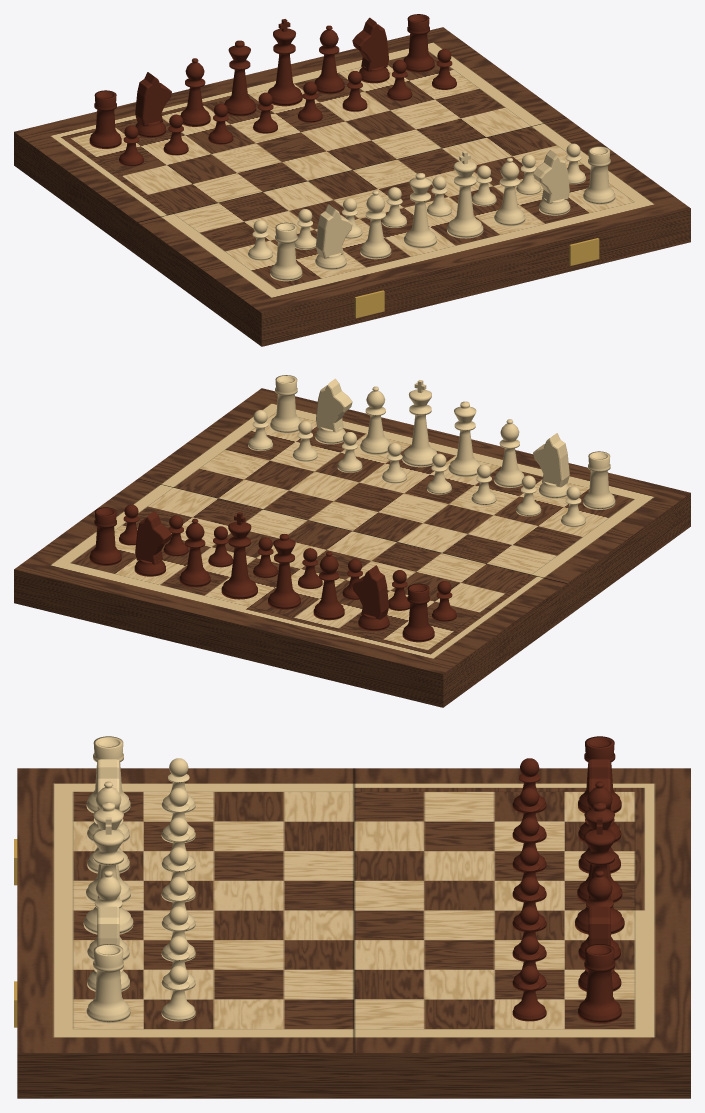
Rendered from philidor-3d-noyer-pliable-24.glb.
3 views of the same model, one above another, from view 1: azimuth 30°, elevation 25°; view 2: azimuth 150°, elevation 25°; view 3: azimuth 270°, elevation 25° (orthographic). The views are drawn at different scales.
Visible parts, largest first — view 1: noyer-pliable-24; view 2: noyer-pliable-24; view 3: noyer-pliable-24.
Boxes of the visible parts, bbox=[...] form: noyer-pliable-24: bbox=[14, 14, 690, 346]; noyer-pliable-24: bbox=[14, 375, 690, 707]; noyer-pliable-24: bbox=[14, 736, 690, 1098].
Size of what is drawn, in the model's own units: 0.24 by 0.06 by 0.2412.
Materials: 5 (2 with a texture image).
